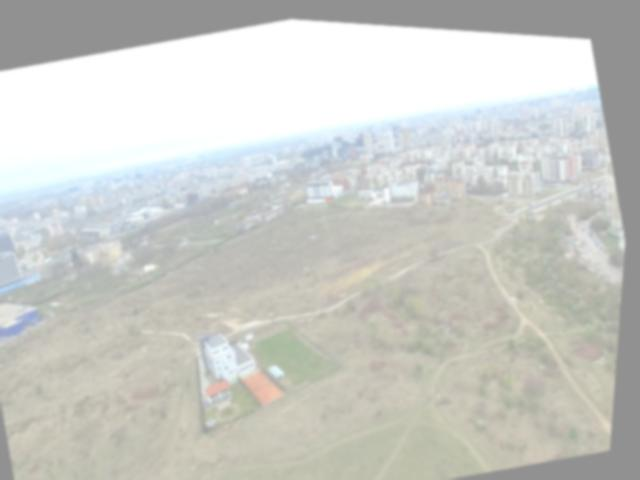plane: (311, 228, 321, 234)
